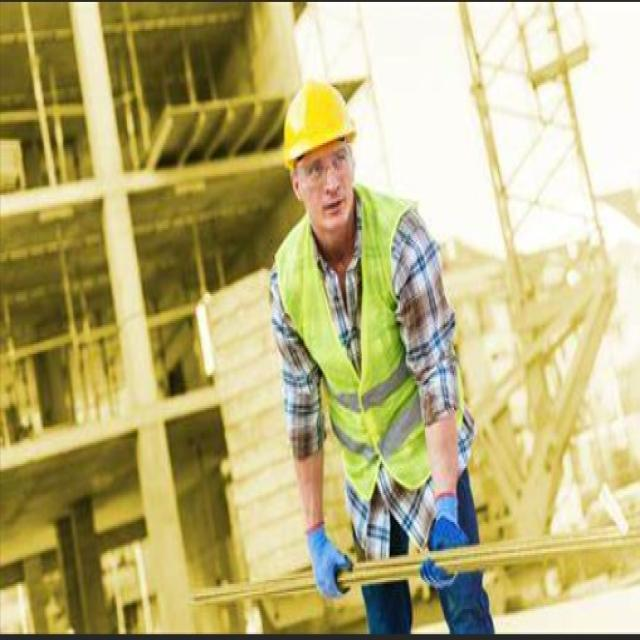gloved: (424, 492, 468, 591), (304, 520, 354, 600)
